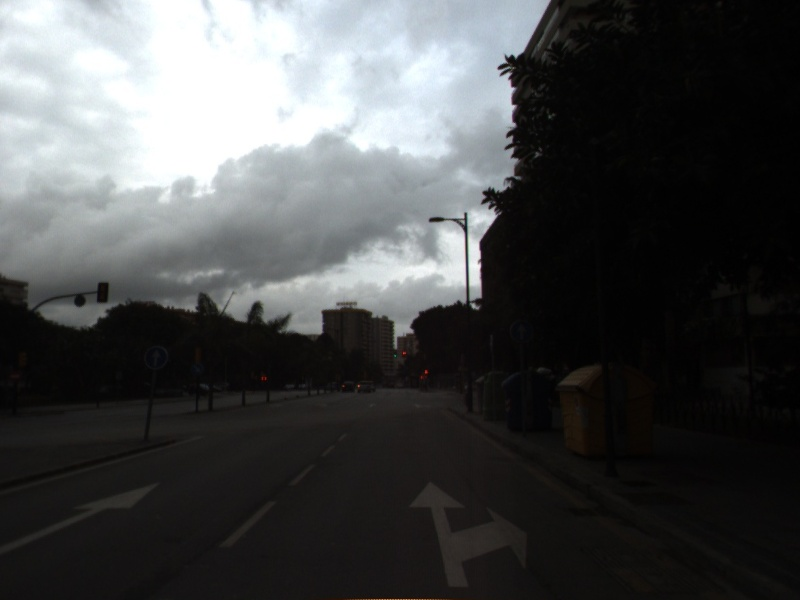STRAIGHT: (1, 477, 167, 554)
STRAIGHT_RIGHT: (405, 477, 532, 591)
